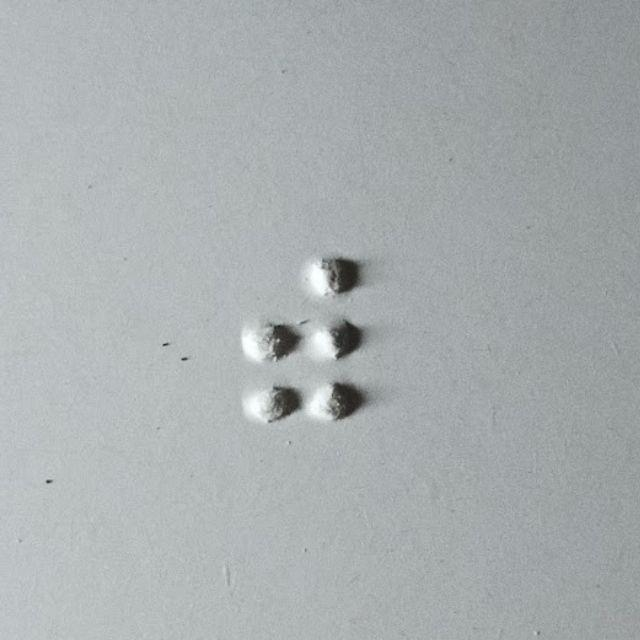na: (243, 255, 364, 422)
